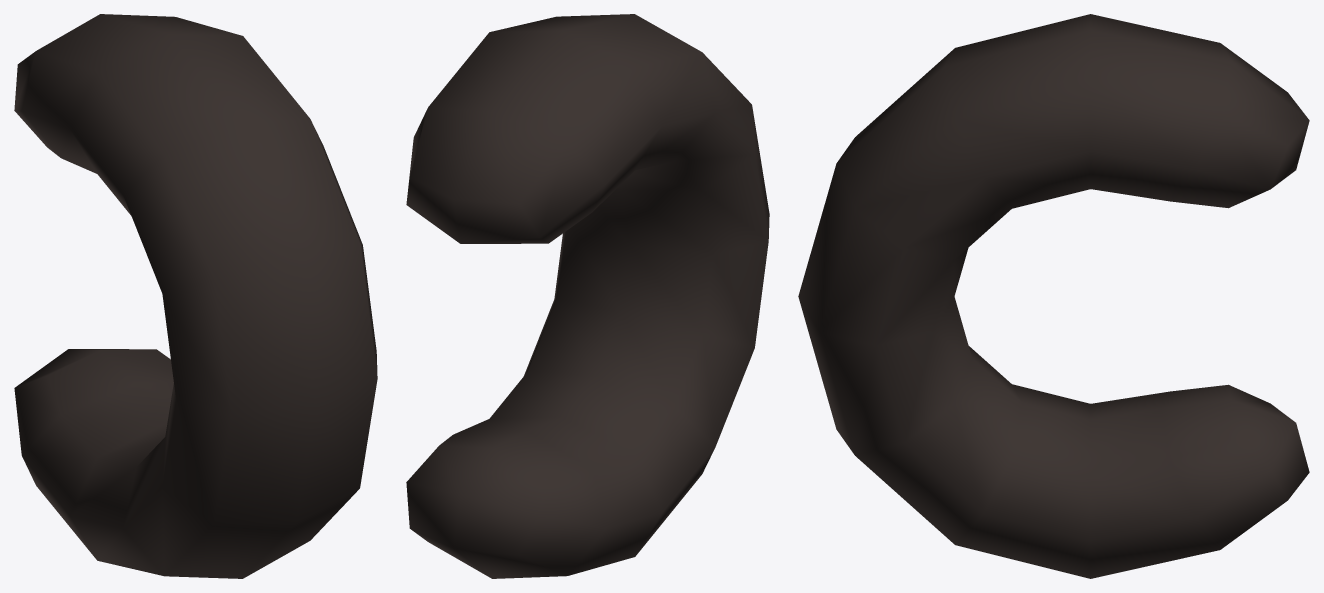
The model's file is Bullet_3.fbx.
3 views of the same model, side by side, from view 1: azimuth 30°, elevation 25°; view 2: azimuth 150°, elevation 25°; view 3: azimuth 270°, elevation 25° (orthographic).
Visible parts, largest first — view 1: 柱体.001; view 2: 柱体.001; view 3: 柱体.001.
Part boxes in pixels (x1,y1,x2,y2): 柱体.001: [14, 14, 377, 578]; 柱体.001: [406, 14, 769, 578]; 柱体.001: [798, 14, 1309, 578].
Bounding box in the file's own units: 33.92 × 85.28 × 74.29.
